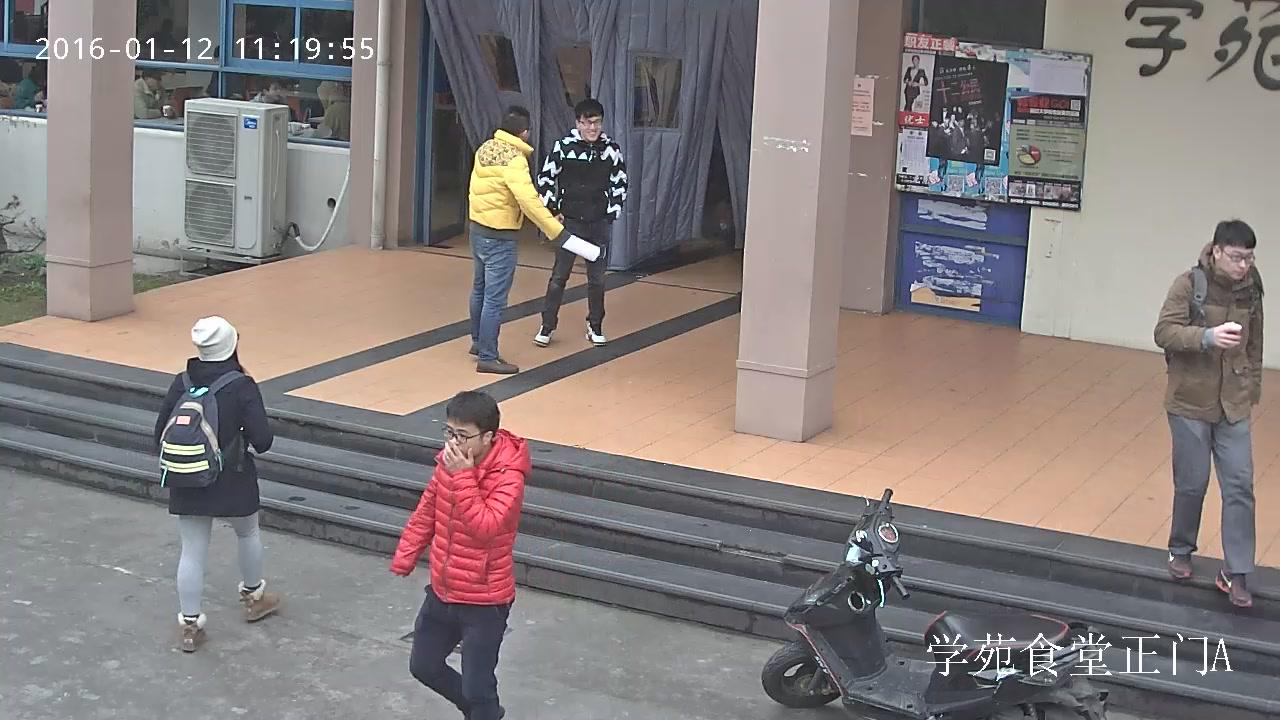person: (388, 390, 532, 720), (1153, 218, 1265, 609), (153, 315, 281, 652), (468, 106, 607, 374), (468, 106, 564, 374), (533, 99, 628, 346), (204, 45, 244, 98), (316, 78, 350, 140), (134, 70, 175, 117), (902, 54, 928, 112)
